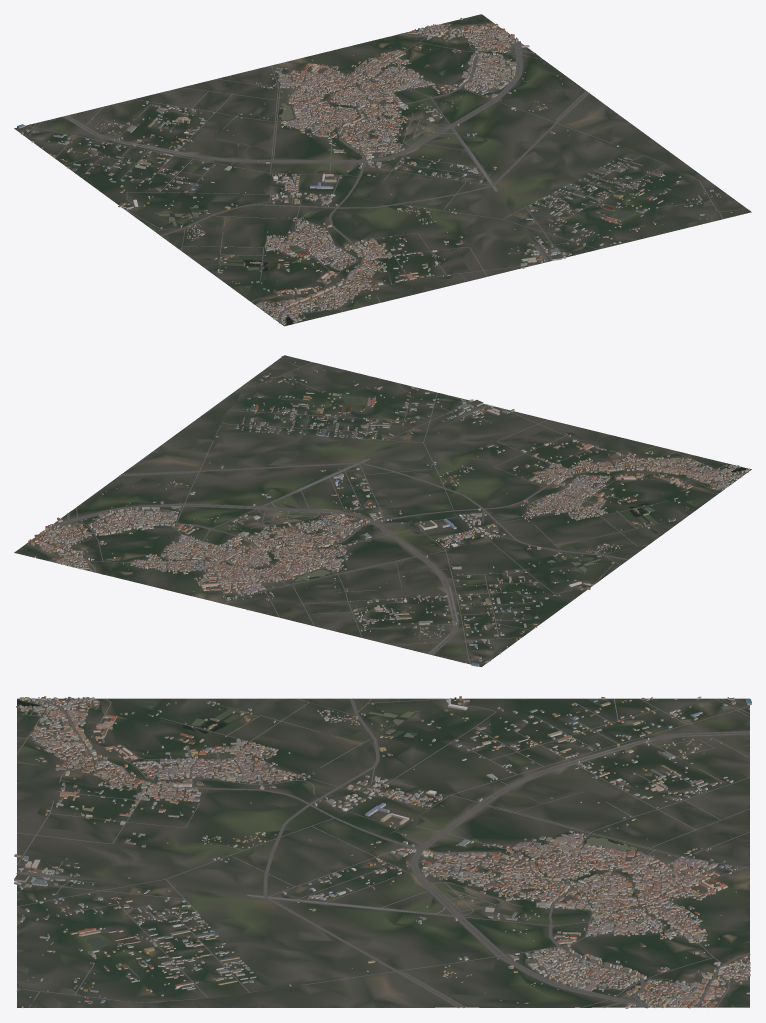
3 renders of one model, top to bottom at view 1: azimuth 30°, elevation 25°; view 2: azimuth 150°, elevation 25°; view 3: azimuth 270°, elevation 25°, orthographic. The views are drawn at different scales.
Parts seen in each view (by area): view 1: ground, buildings, roads, water; view 2: ground, buildings, roads, water; view 3: ground, buildings, roads, water.
Boxes of the visible parts, x1,y1,x2,y2 form: ground: (14, 14, 751, 326); buildings: (17, 18, 750, 325); roads: (24, 23, 746, 323); water: (38, 35, 661, 325); ground: (14, 355, 751, 666); buildings: (28, 356, 749, 666); roads: (26, 359, 748, 664); water: (74, 395, 747, 652); ground: (17, 698, 749, 1007); buildings: (14, 696, 751, 1008); roads: (16, 698, 750, 1008); water: (17, 700, 749, 1007).
Bounding box in the file's own units: 2825 × 26.73 × 2823.
